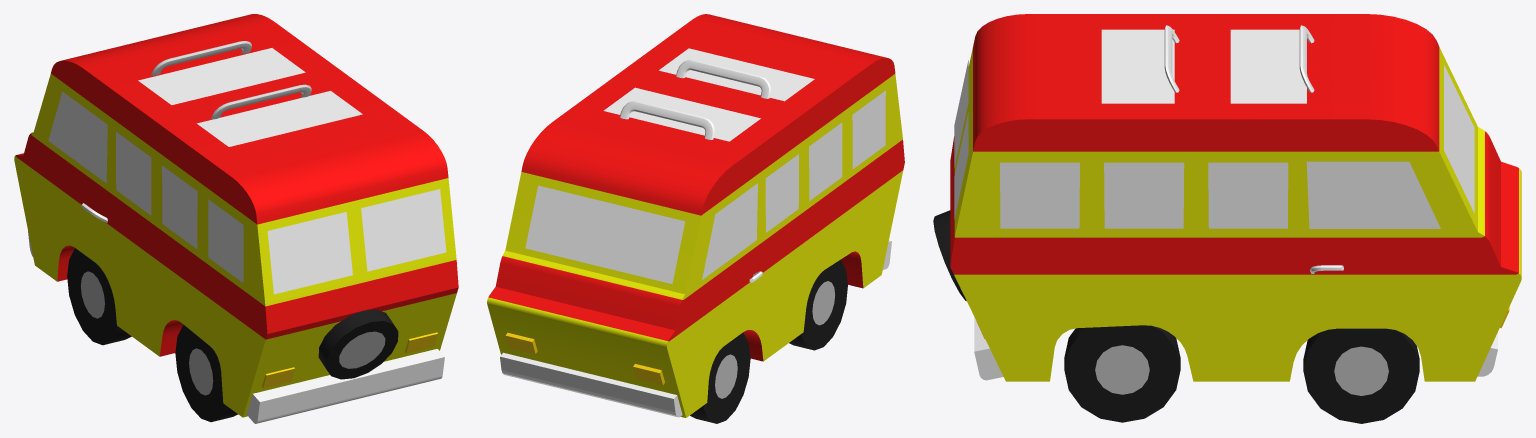
Rendered from вьетнам_дляигры.fbx.
The picture shows the model from 3 angles, left to right: view 1: azimuth 30°, elevation 25°; view 2: azimuth 150°, elevation 25°; view 3: azimuth 270°, elevation 25°; orthographic projection. The views are drawn at different scales.
Visible parts, largest first — view 1: Cube, Plane.007, Cube.002, Plane.004, Plane.003, Plane, Plane.001, Cylinder.006, Cylinder.001, Cylinder, Plane.002, Cylinder.005 (+3 smaller); view 2: Cube, Plane.005, Plane.007, Cube.001, Plane, Cylinder.001, Cylinder, Plane.001, Plane.002, Cylinder.004, Cylinder.005, Cube.003 (+1 smaller); view 3: Cube, Plane.007, Cylinder, Cylinder.001, Plane.002, Plane, Plane.001, Plane.005, Cube.002, Cylinder.006, Plane.004, Plane.003 (+2 smaller).
Part boxes in pixels (x1,y1,x2,y2): Cube: (14,14,458,417); Plane.007: (116,132,243,282); Cube.002: (246,349,444,423); Plane.004: (361,189,446,271); Plane.003: (267,212,352,294); Plane: (138,48,305,104); Plane.001: (197,90,362,146); Cylinder.006: (318,309,398,379); Cylinder.001: (67,248,131,345); Cylinder: (175,325,237,422); Plane.002: (48,91,107,183); Cylinder.005: (211,84,311,119); Cube: (487,14,904,417); Plane.005: (525,185,685,283); Plane.007: (765,90,885,232); Cube.001: (500,352,682,417); Plane: (603,87,760,141); Cylinder.001: (690,332,750,423); Cylinder: (789,259,847,350); Plane.001: (659,48,814,101); Plane.002: (702,183,757,279); Cylinder.004: (620,101,714,139); Cylinder.005: (676,59,770,98); Cube.003: (505,332,537,354); Cube: (950,14,1521,381); Plane.007: (1000,162,1288,228); Cylinder: (1064,325,1180,422); Cylinder.001: (1303,328,1419,423); Plane.002: (1306,161,1440,228); Plane: (1230,29,1306,103); Plane.001: (1101,29,1174,103); Plane.005: (1444,65,1474,213); Cube.002: (974,317,1003,380); Cylinder.006: (933,210,966,300); Plane.004: (954,111,968,219); Plane.003: (954,60,968,167).
Size of the model in its own units: 134 by 172 by 279.
